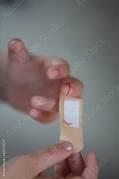Bandage: (59, 95, 82, 151)
